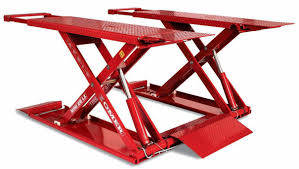Scissor Lift: (3, 7, 297, 165)
